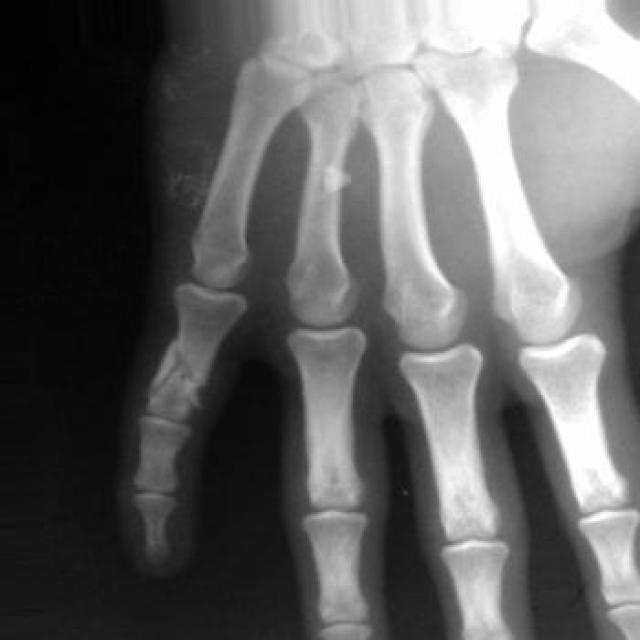Fracture: (125, 333, 224, 411)
